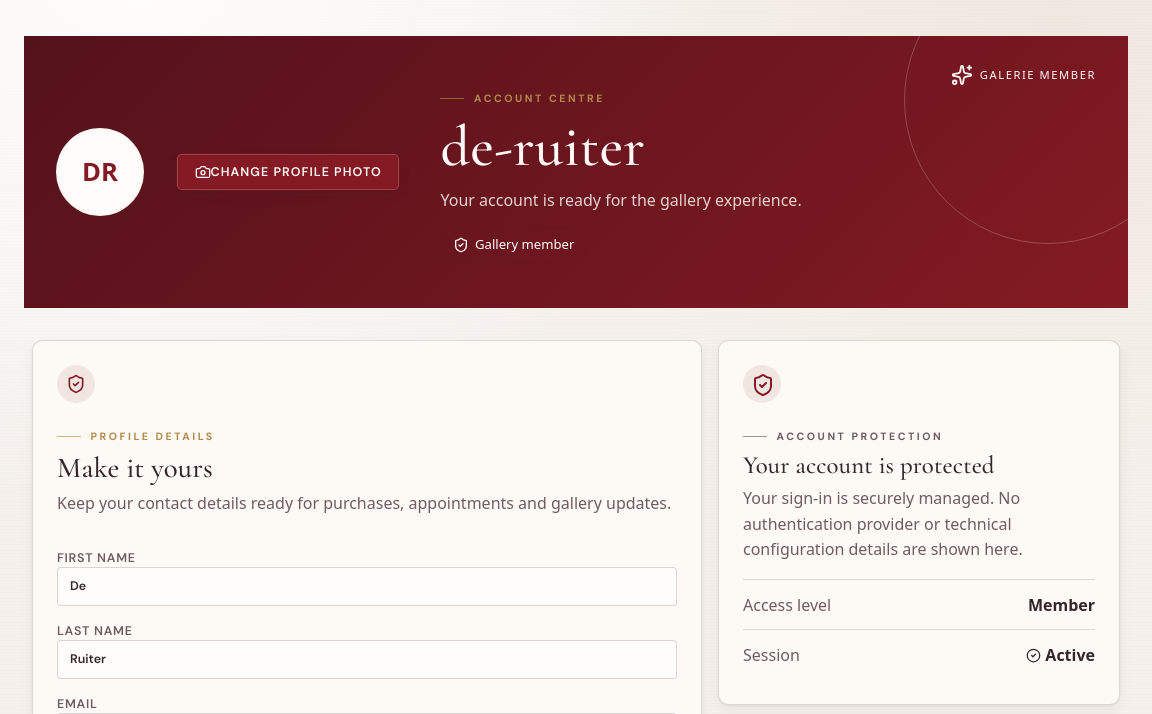
it: Profile page › saves the profile details the member typed
Replace the text in the field labelled "First name" with " Dirk ": (367, 586) [57,567,677,606]
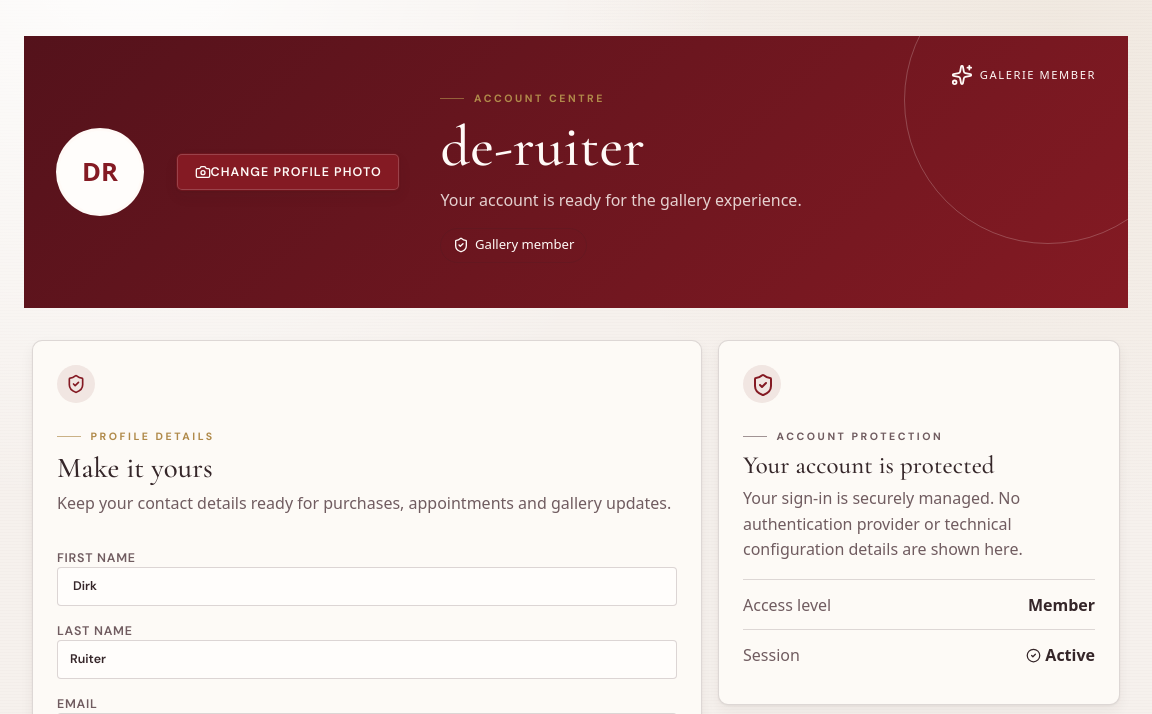
Replace the text in the field labelled "Last name" with "De Ruiter": (367, 659) [57,640,677,679]
(page scrolled)
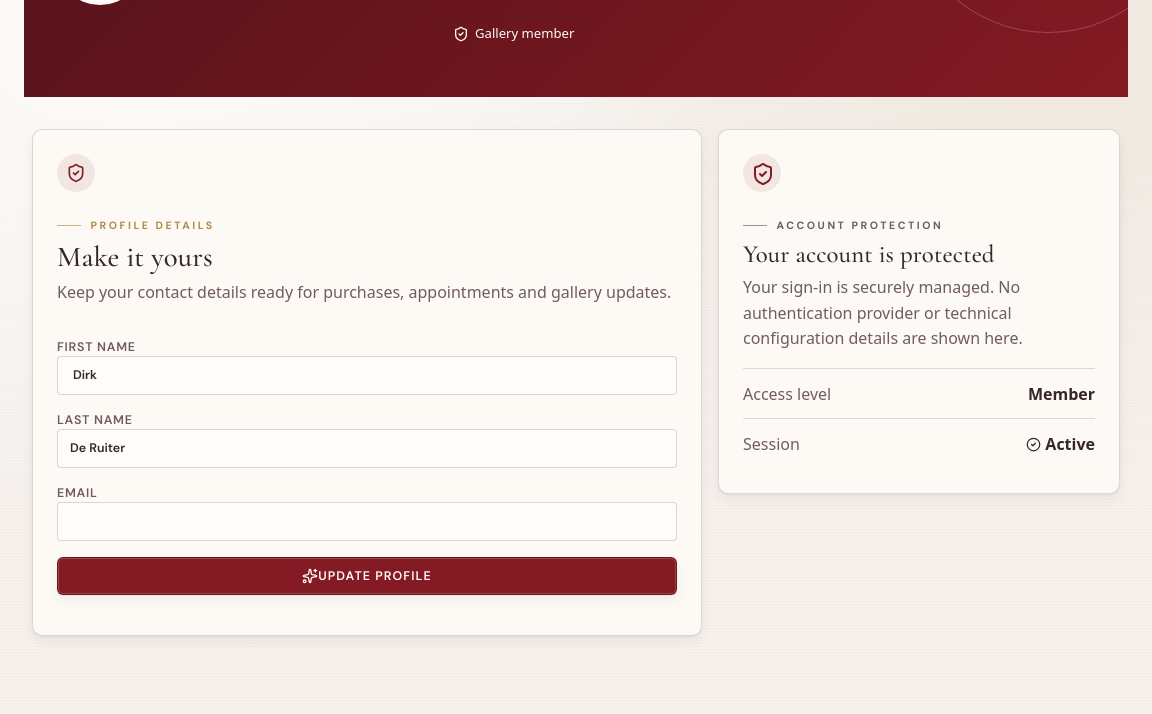
In the field labelled "Email": (367, 521) [57,502,677,541], type "dirk@galerie.test"
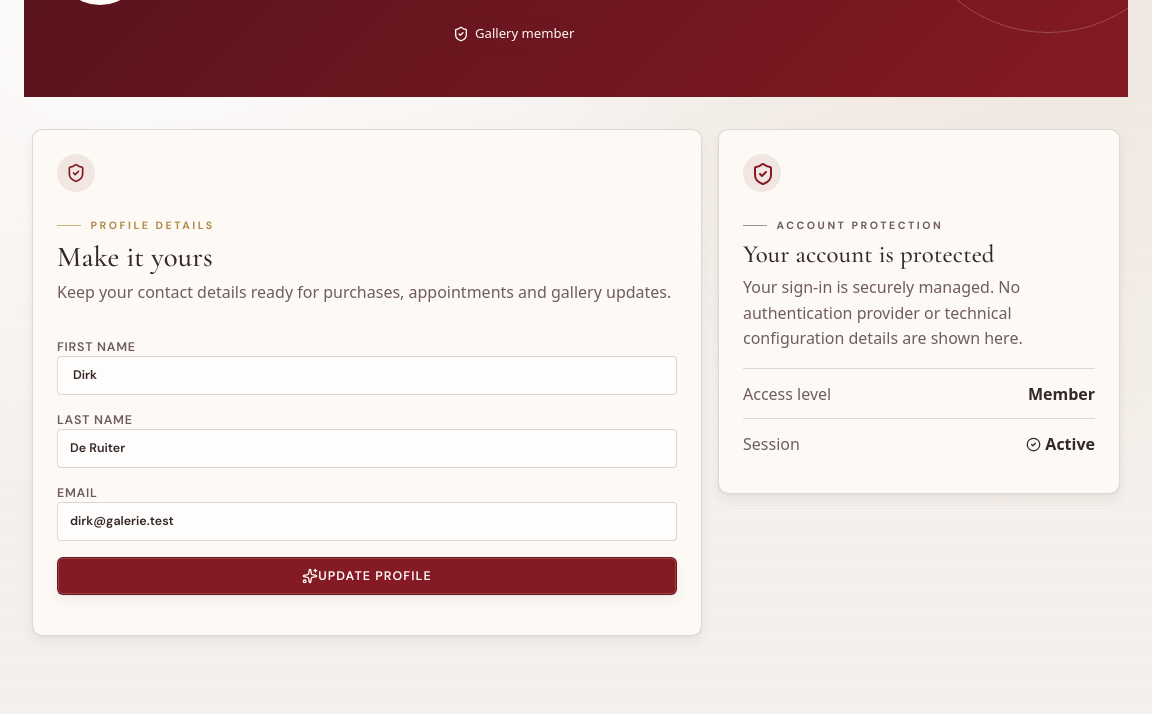
Click the button "Update profile": click(367, 576) [57,557,677,595]
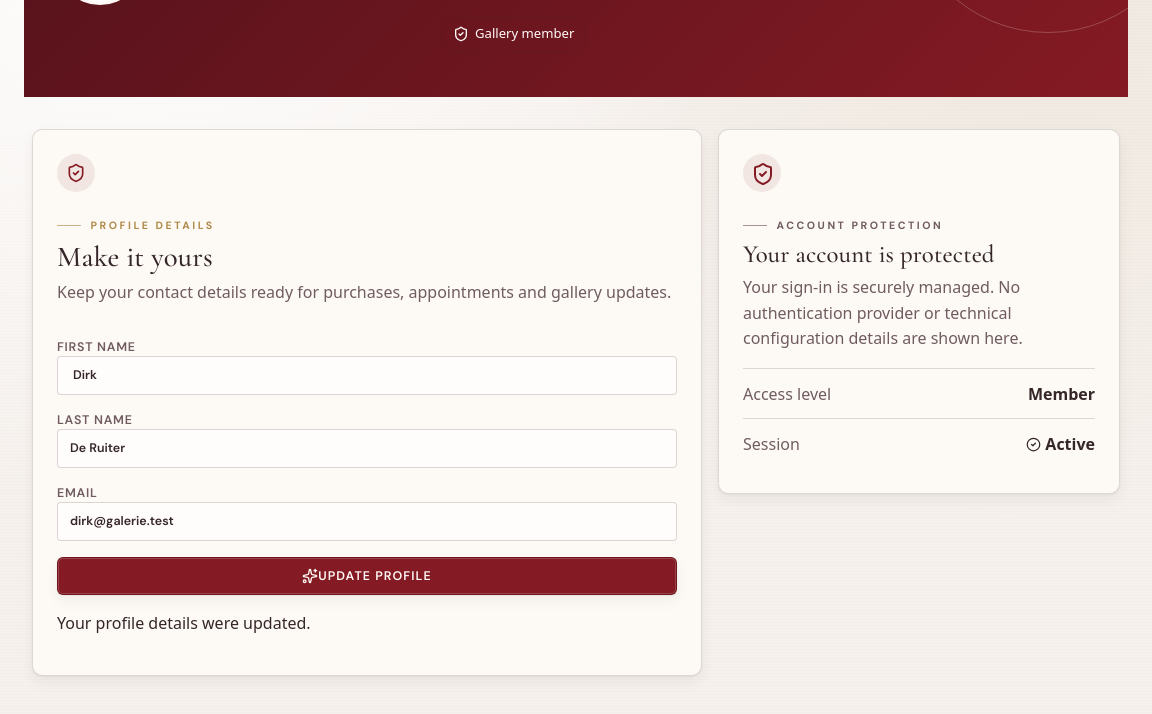
Expected: the text "Your profile details were updated." is shown, [57,612,311,634]
